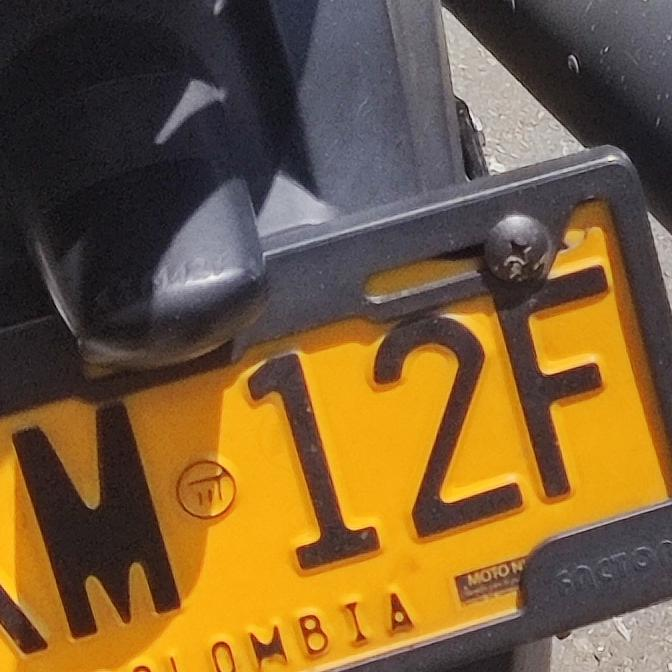plates: (0, 153, 672, 672)
